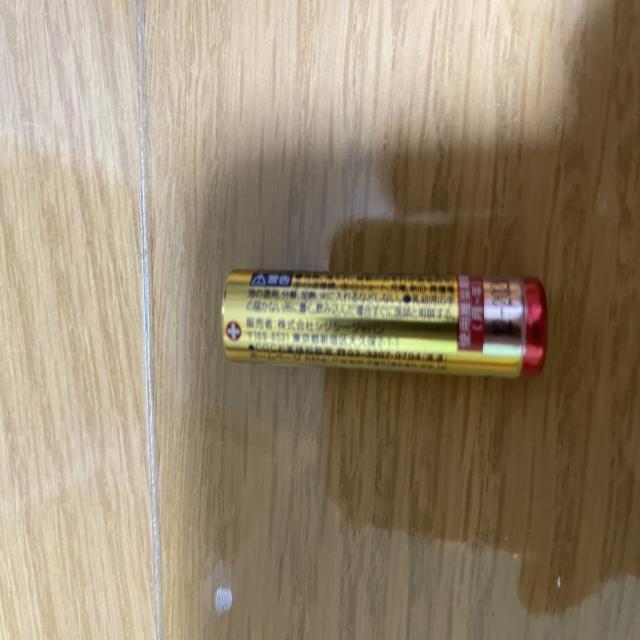hazardous waste: (204, 244, 574, 388)
